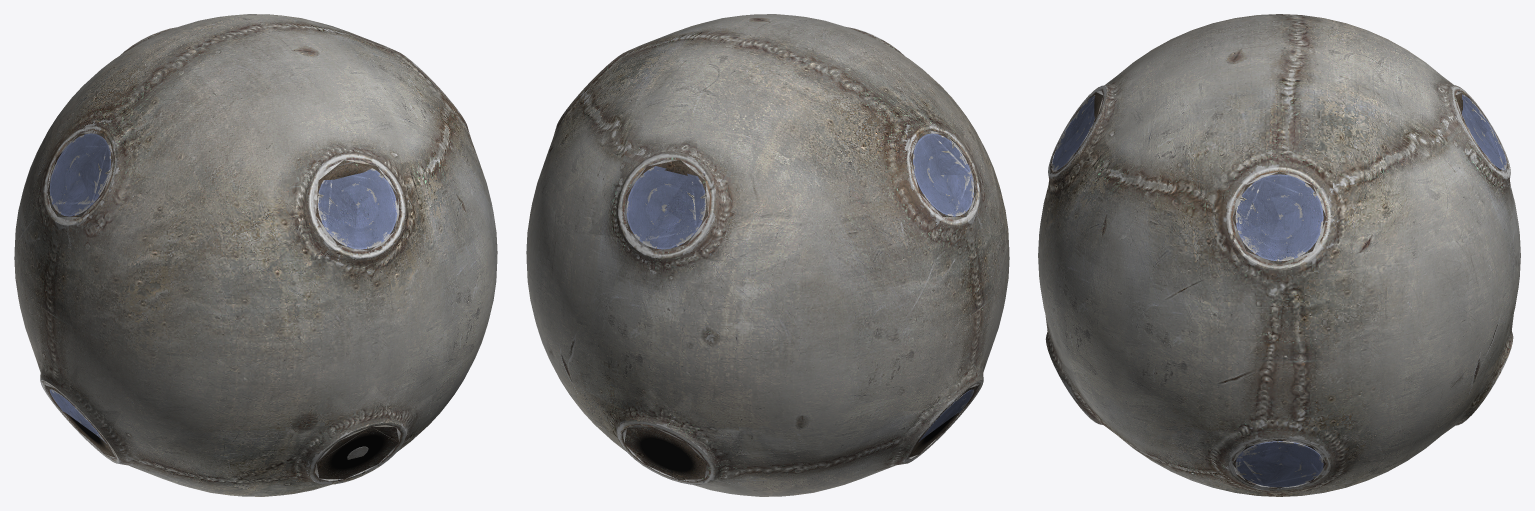
Rendered from hoverball_morph.fbx.
The picture shows the model from 3 angles, left to right: view 1: azimuth 30°, elevation 25°; view 2: azimuth 150°, elevation 25°; view 3: azimuth 270°, elevation 25°; orthographic projection.
Visible parts, largest first — view 1: hoverball_LOD0_Combined_Neutral, hoverball_LOD3_Combined_Neutral, hoverball_LOD1_Combined_Neutral, hoverball_LOD4_Combined_Neutral, hoverball_LOD2_Combined_Neutral; view 2: hoverball_LOD0_Combined_Neutral, hoverball_LOD1_Combined_Neutral, hoverball_LOD3_Combined_Neutral, hoverball_LOD4_Combined_Neutral, hoverball_LOD2_Combined_Neutral; view 3: hoverball_LOD0_Combined_Neutral, hoverball_LOD1_Combined_Neutral, hoverball_LOD3_Combined_Neutral, hoverball_LOD4_Combined_Neutral, hoverball_LOD2_Combined_Neutral.
Boxes of the visible parts, x1=… form: hoverball_LOD0_Combined_Neutral: x1=14, y1=14, x2=497, y2=496; hoverball_LOD3_Combined_Neutral: x1=38, y1=133, x2=435, y2=479; hoverball_LOD1_Combined_Neutral: x1=31, y1=35, x2=477, y2=491; hoverball_LOD4_Combined_Neutral: x1=54, y1=145, x2=413, y2=479; hoverball_LOD2_Combined_Neutral: x1=45, y1=130, x2=396, y2=479; hoverball_LOD0_Combined_Neutral: x1=526, y1=14, x2=1009, y2=496; hoverball_LOD1_Combined_Neutral: x1=545, y1=35, x2=992, y2=491; hoverball_LOD3_Combined_Neutral: x1=588, y1=133, x2=985, y2=479; hoverball_LOD4_Combined_Neutral: x1=609, y1=135, x2=971, y2=464; hoverball_LOD2_Combined_Neutral: x1=629, y1=130, x2=978, y2=479; hoverball_LOD0_Combined_Neutral: x1=1038, y1=14, x2=1520, y2=496; hoverball_LOD1_Combined_Neutral: x1=1043, y1=60, x2=1515, y2=495; hoverball_LOD3_Combined_Neutral: x1=1045, y1=76, x2=1513, y2=488; hoverball_LOD4_Combined_Neutral: x1=1051, y1=96, x2=1507, y2=485; hoverball_LOD2_Combined_Neutral: x1=1051, y1=91, x2=1507, y2=487.
Size of the model in its own units: 15.8 by 15.8 by 15.8.
